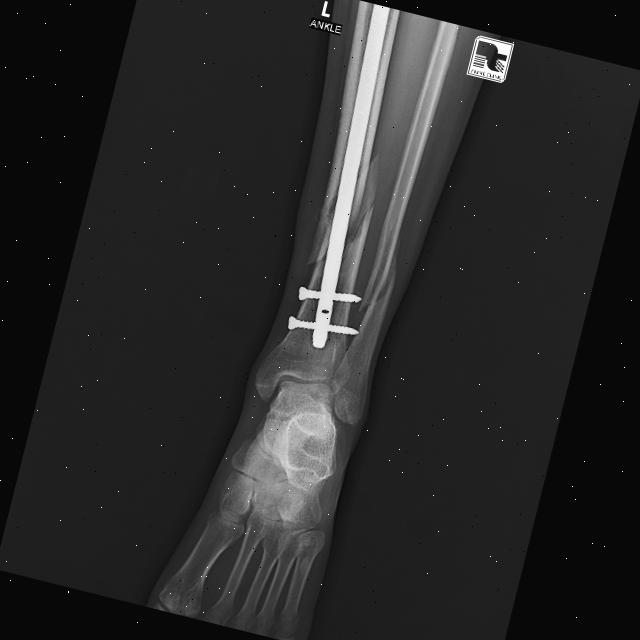Fracture: (339, 145, 381, 266), (353, 246, 398, 315), (303, 187, 340, 269)
